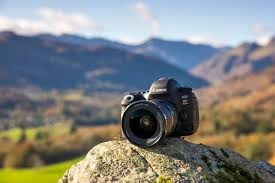camera: (120, 85, 199, 143)
